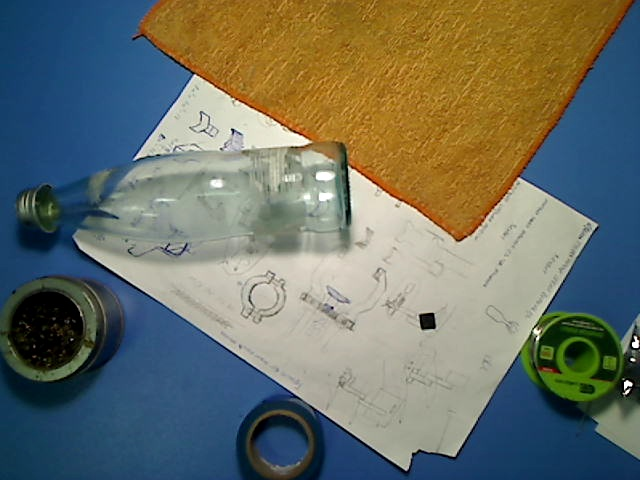bottle: (17, 141, 353, 243)
